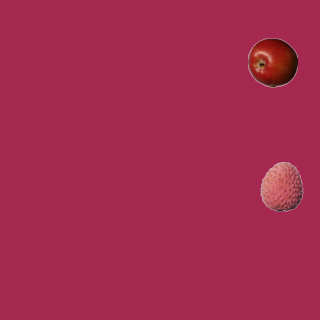Apple Braeburn: (247, 37, 297, 87)
Lychee: (256, 161, 306, 211)
